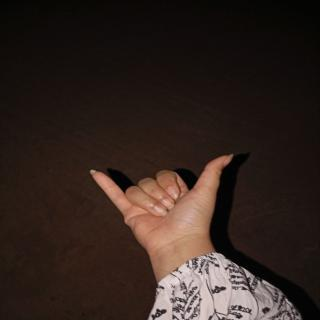YA: (78, 147, 264, 263)
